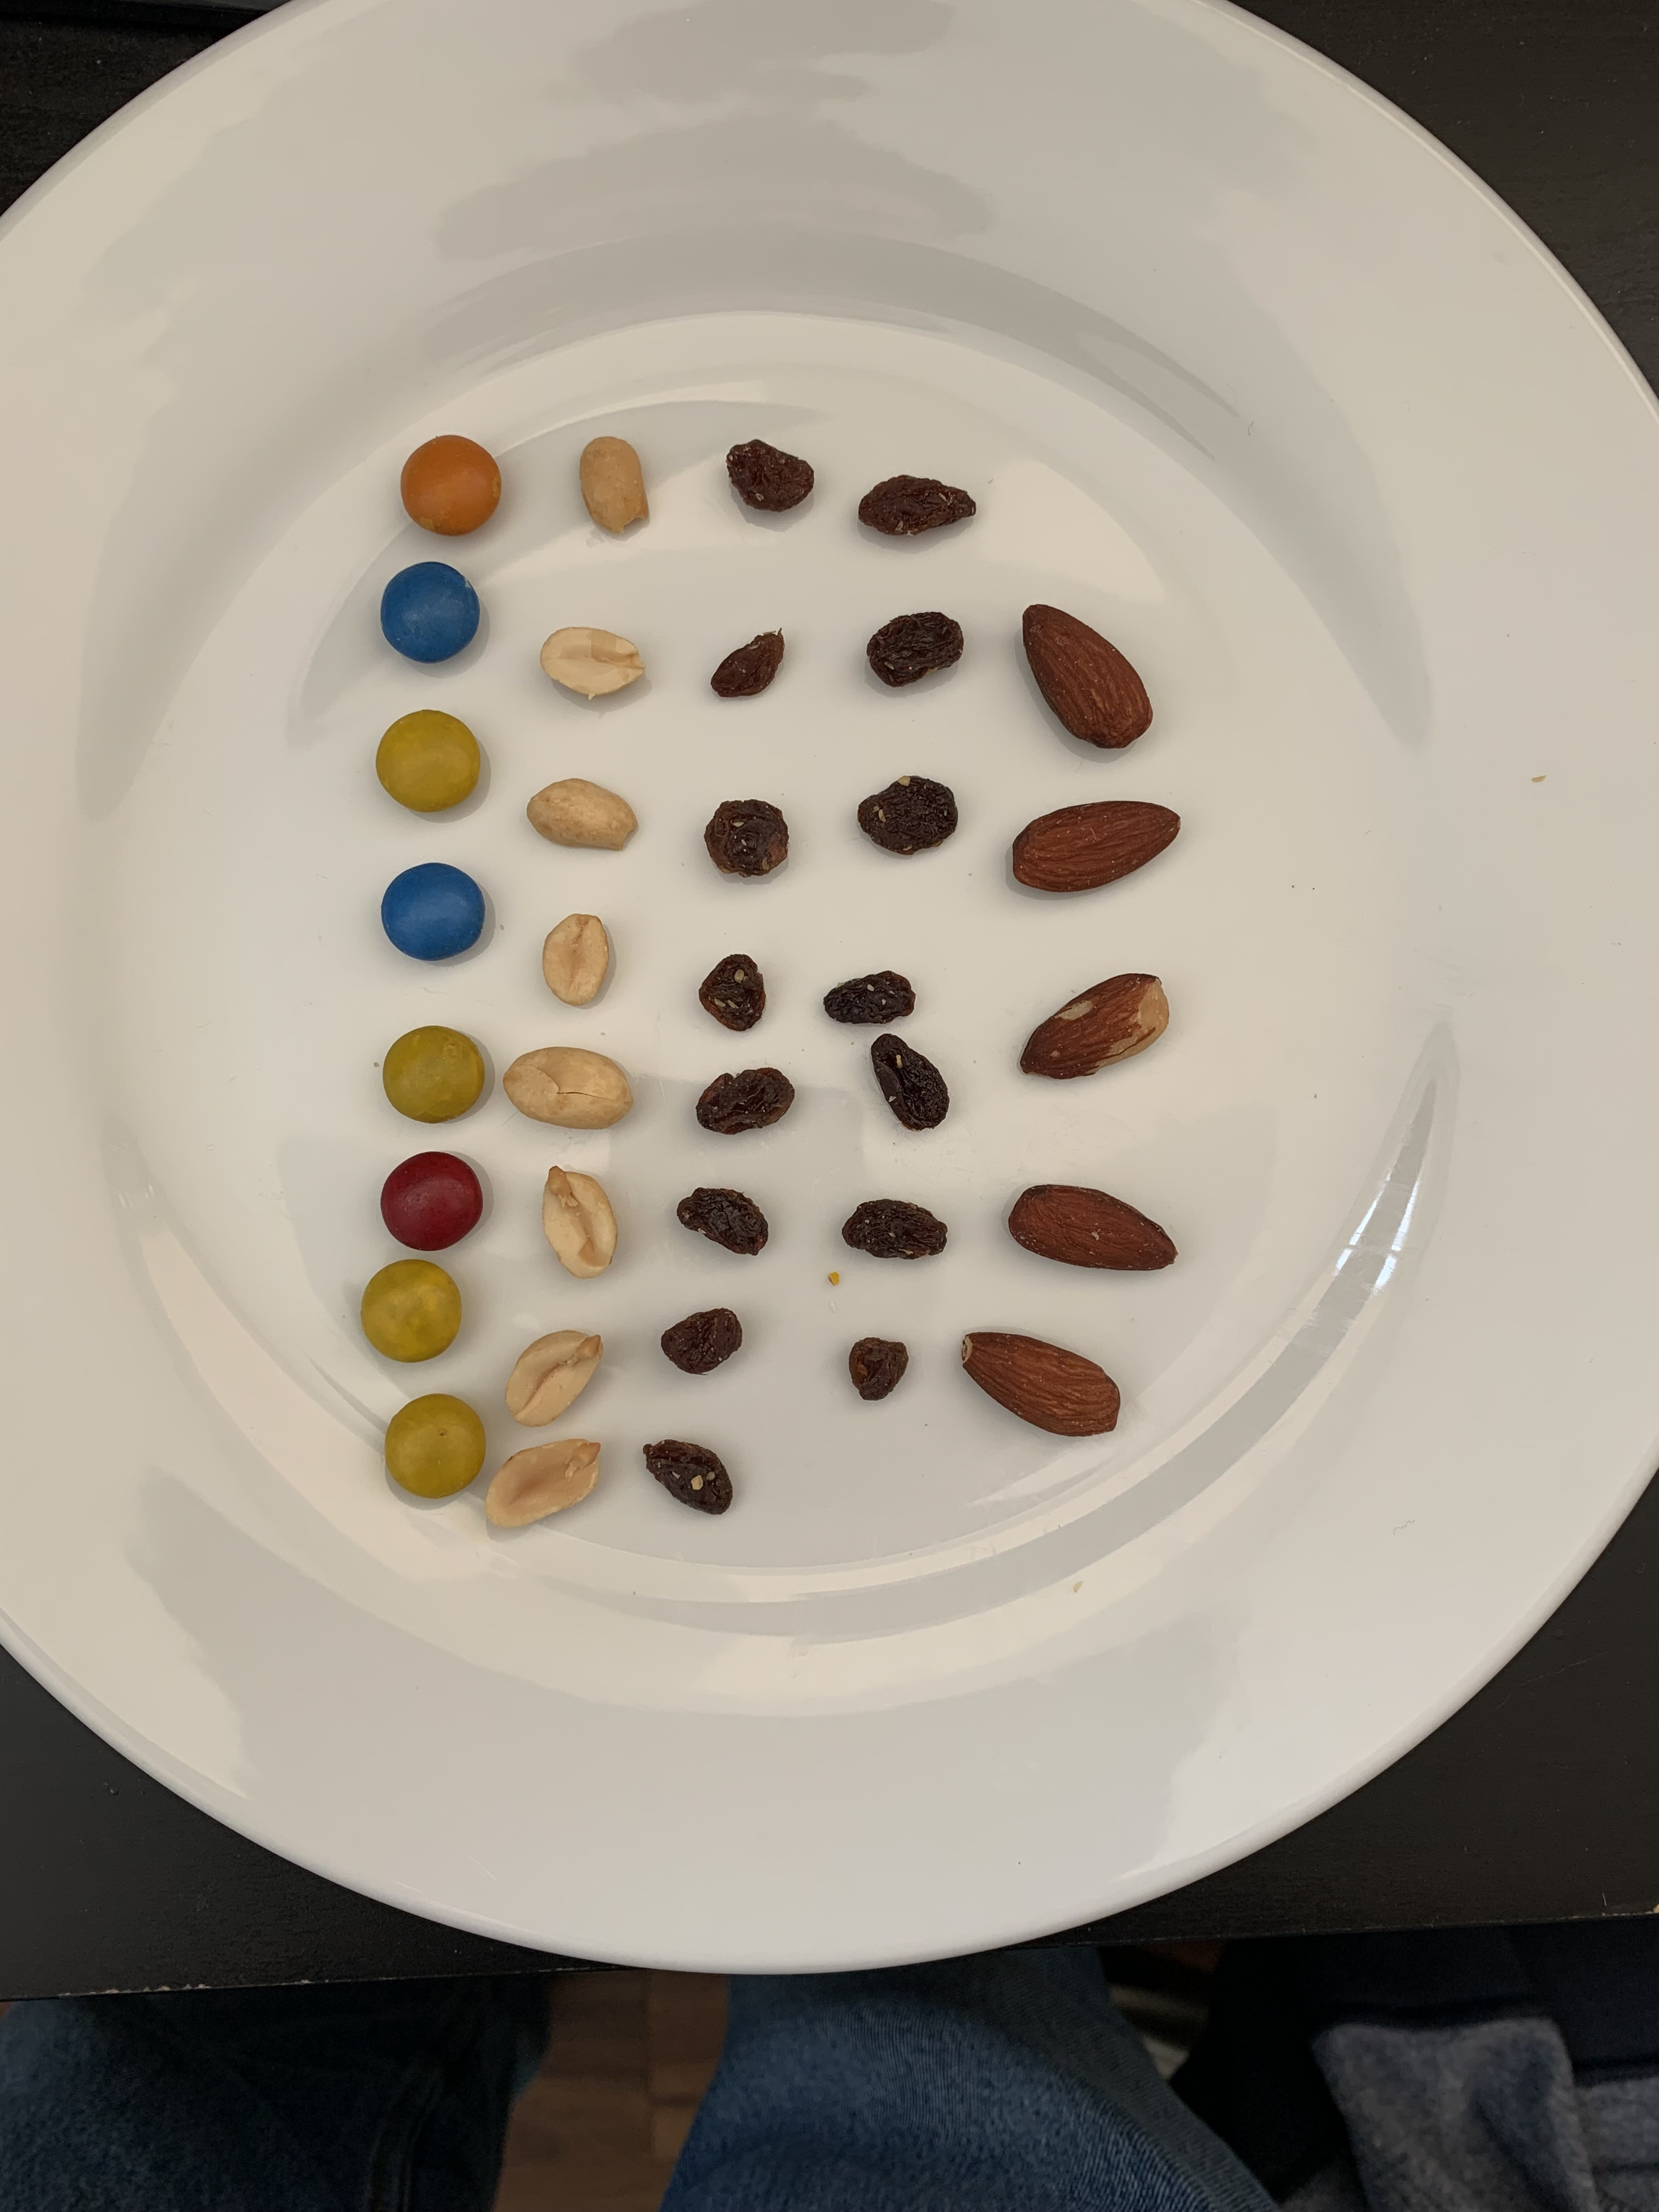almond: (1021, 601, 1155, 751), (962, 1331, 1122, 1440), (1018, 972, 1169, 1080), (1011, 799, 1183, 894), (1007, 1183, 1180, 1273)
mm: (383, 1392, 488, 1500), (376, 1150, 486, 1252), (376, 709, 483, 812), (359, 1259, 464, 1362), (380, 559, 481, 662), (399, 435, 504, 535), (380, 862, 486, 960), (382, 1026, 488, 1123)
peanut: (502, 1047, 636, 1130), (483, 1437, 603, 1529), (504, 1327, 605, 1426), (540, 1163, 620, 1278), (528, 777, 641, 852), (540, 625, 647, 700), (579, 435, 650, 536), (540, 911, 612, 1007)
raisin: (857, 775, 960, 857), (857, 472, 978, 538), (866, 610, 965, 690), (870, 1033, 950, 1130), (641, 1439, 734, 1519), (695, 1066, 796, 1136), (704, 798, 791, 878), (842, 1198, 950, 1261), (674, 1186, 770, 1256), (727, 437, 816, 512), (660, 1308, 742, 1376), (709, 627, 784, 698), (699, 951, 765, 1031), (823, 970, 915, 1026), (847, 1334, 908, 1406)
